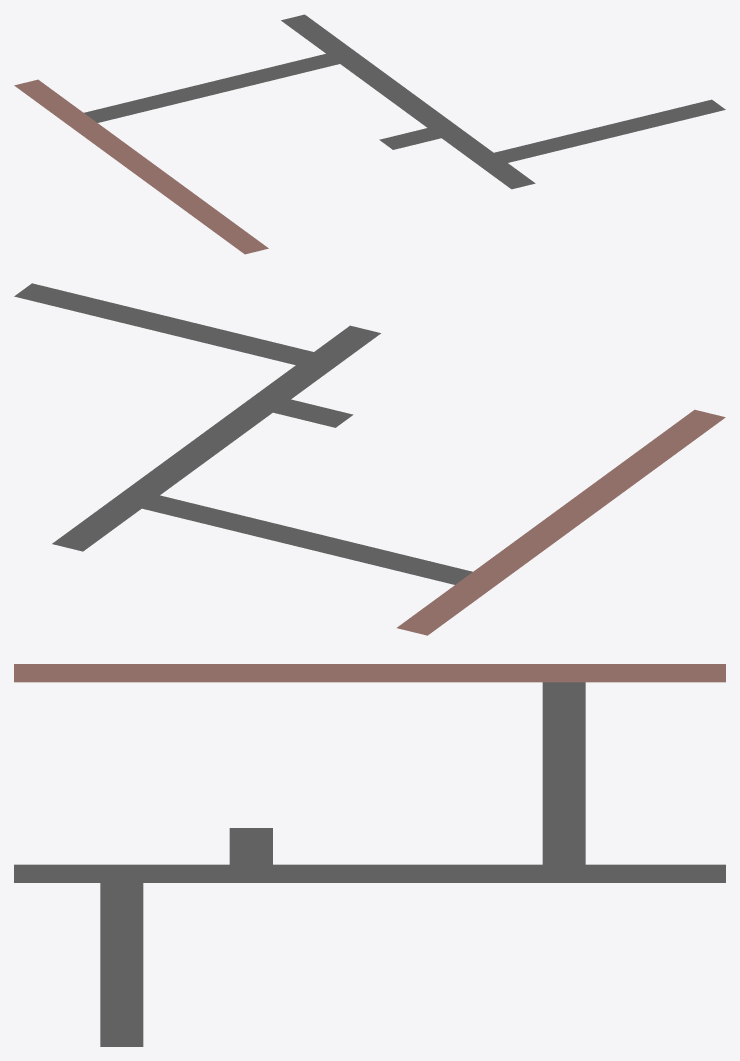
File: alleys.glb
3 views of the same model, one above another, from view 1: azimuth 30°, elevation 25°; view 2: azimuth 150°, elevation 25°; view 3: azimuth 270°, elevation 25° (orthographic). The views are drawn at different scales.
Visible parts, largest first — view 1: Plane; view 2: Plane; view 3: Plane.
Boxes of the visible parts, bbox=[...] form: Plane: bbox=[14, 14, 725, 254]; Plane: bbox=[14, 283, 725, 635]; Plane: bbox=[14, 664, 725, 1046].
Size of what is drawn, in the model's own units: 84 by 0 by 66.
